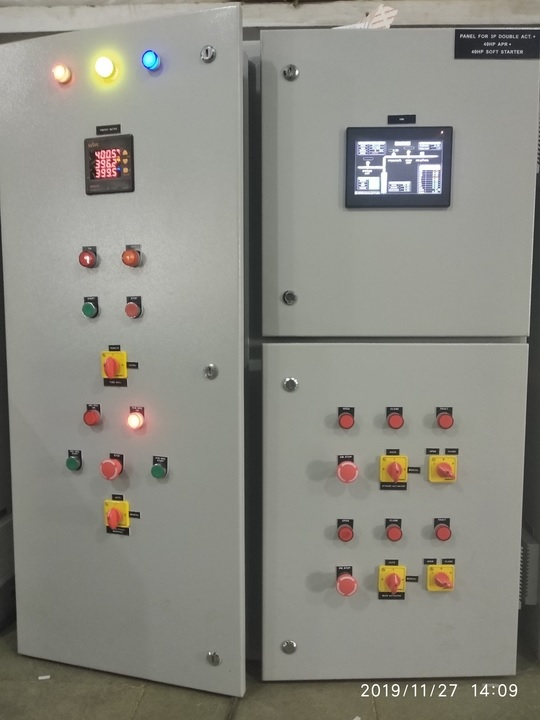Blue_Led_On: (135, 44, 167, 77)
Green_Led_Off: (74, 292, 109, 325), (59, 448, 89, 479), (143, 453, 174, 482)
Orange_Led_Off: (117, 240, 147, 272)
Red_Led_Off: (328, 513, 365, 551), (423, 513, 460, 548), (327, 404, 365, 437), (375, 513, 410, 548), (377, 400, 410, 436), (76, 401, 112, 433), (119, 291, 152, 322), (430, 401, 461, 434), (74, 241, 104, 275)
Red_Led_On: (42, 58, 79, 94), (121, 406, 154, 440)
Yellow_Led_On: (88, 51, 121, 85)
